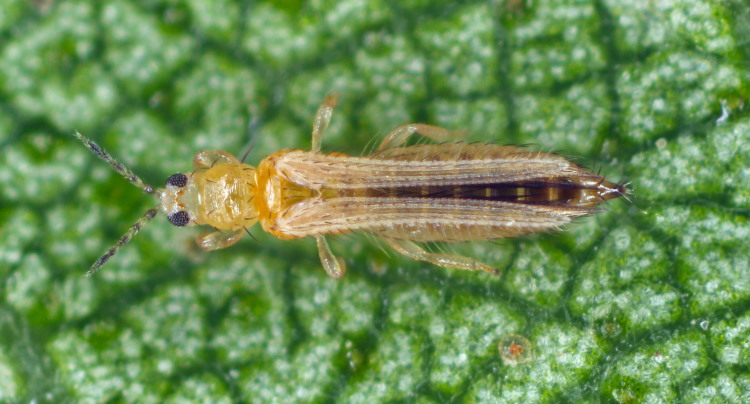Thrips: (81, 111, 640, 286)
